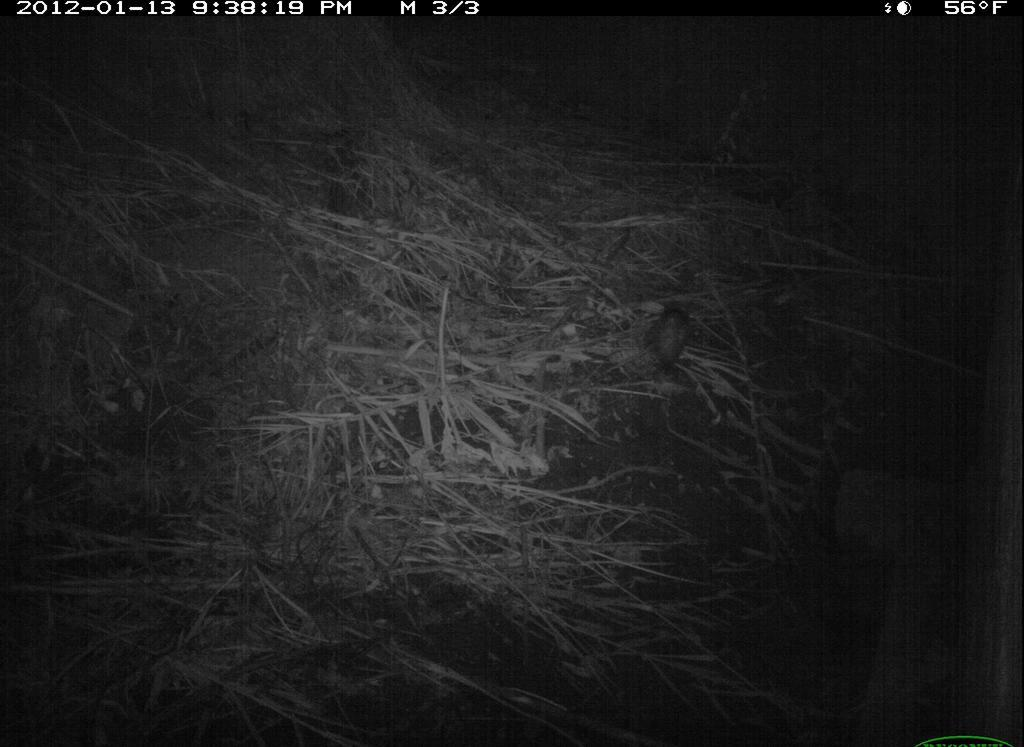opossum: (641, 299, 701, 387)
